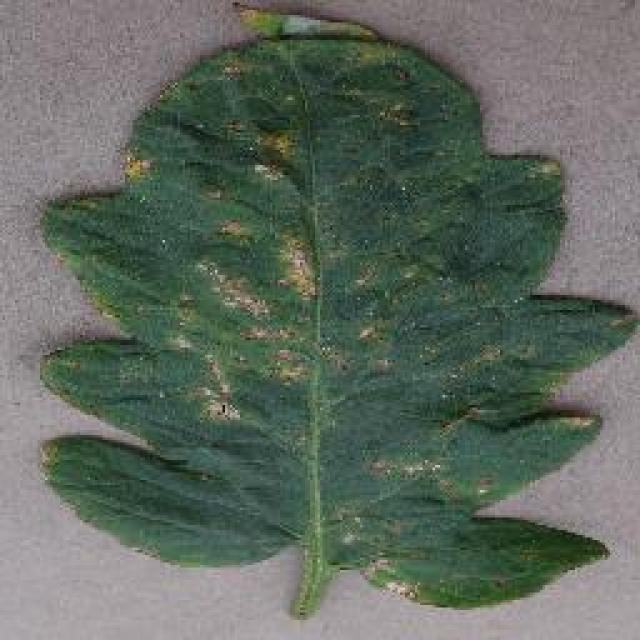Tomato bacterial spot leaf: (38, 0, 637, 605)
